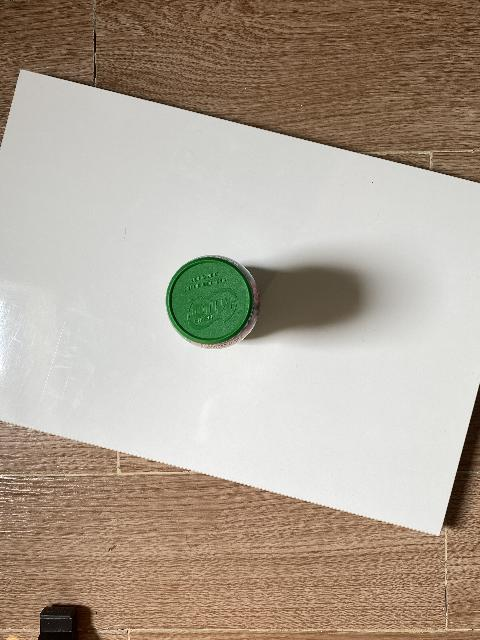milo: (165, 255, 260, 349)
